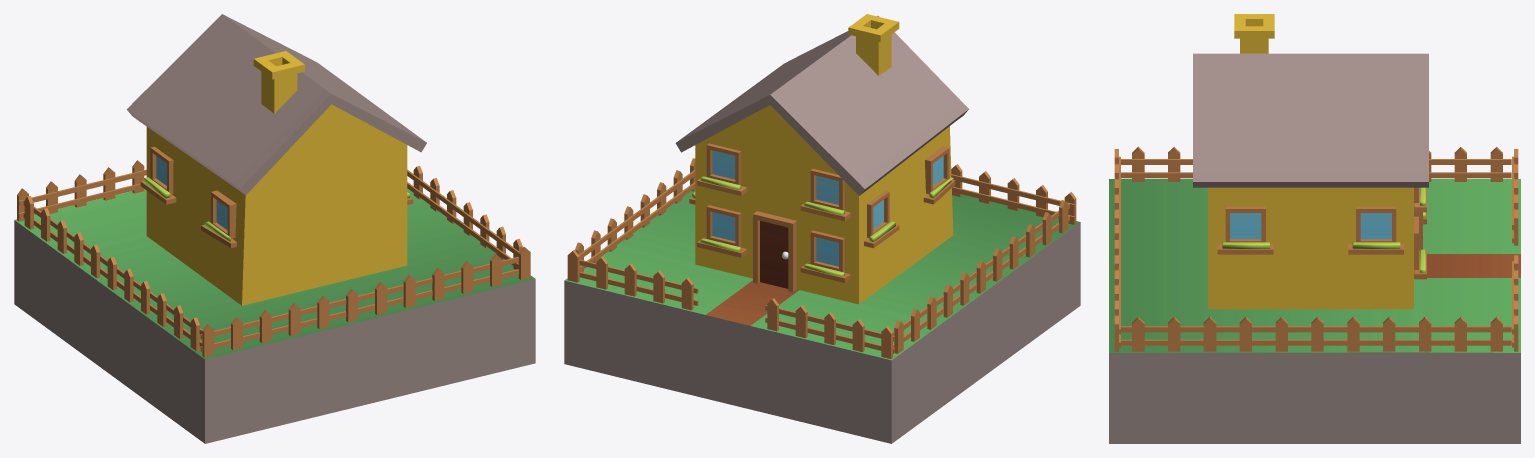
The model's file is Yellow_House.fbx.
3 renders of one model, left to right at view 1: azimuth 30°, elevation 25°; view 2: azimuth 150°, elevation 25°; view 3: azimuth 270°, elevation 25°, orthographic. The views are drawn at different scales.
Parts seen in each view (by area): view 1: Yellow_House; view 2: Yellow_House; view 3: Yellow_House.
Boxes of the visible parts, bbox=[...] form: Yellow_House: bbox=[14, 14, 535, 443]; Yellow_House: bbox=[564, 14, 1080, 443]; Yellow_House: bbox=[1109, 14, 1520, 443].
Bounding box in the file's own units: 400 × 345 × 400.
